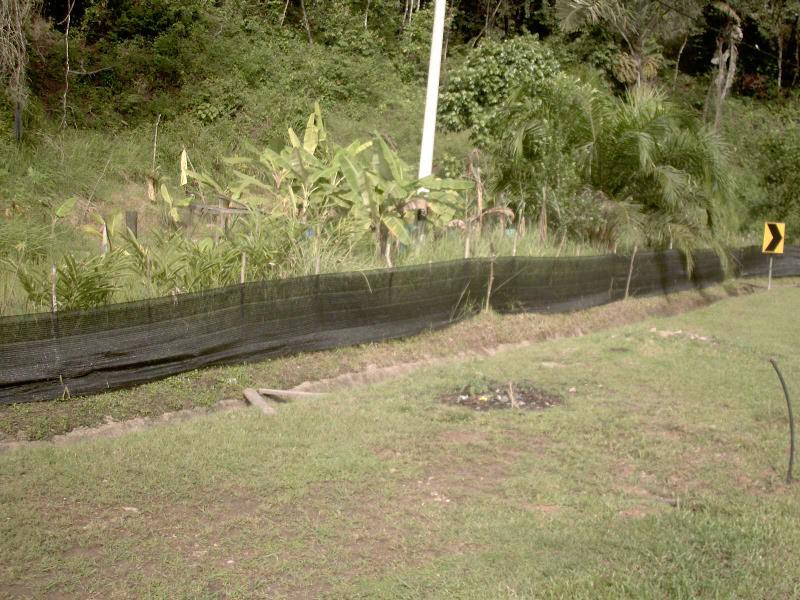traffic_sign: (754, 212, 794, 263)
